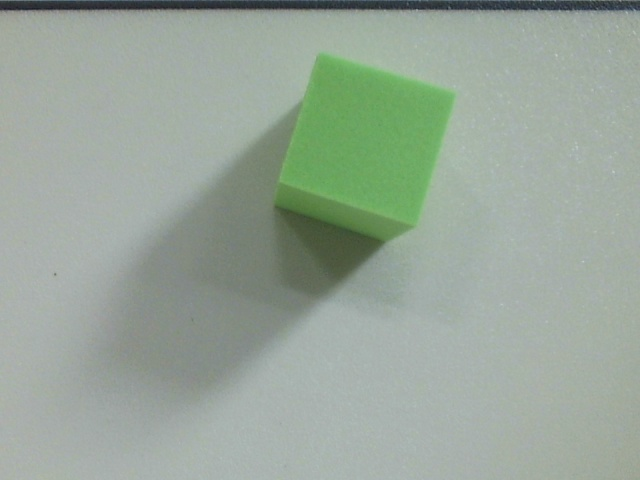greencube: (266, 50, 461, 248)
